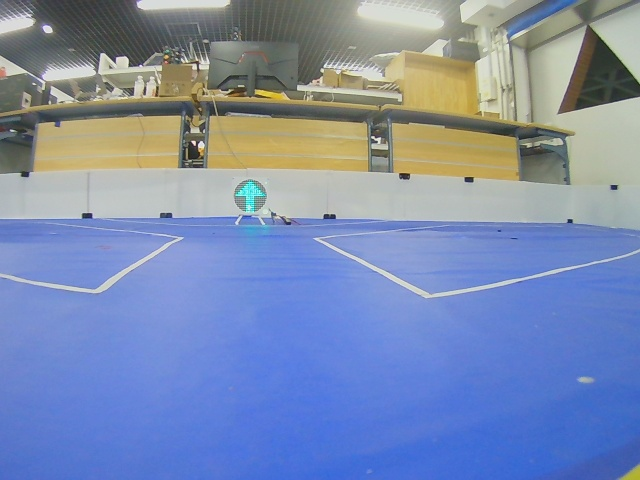straight_green: (234, 179, 267, 215)
